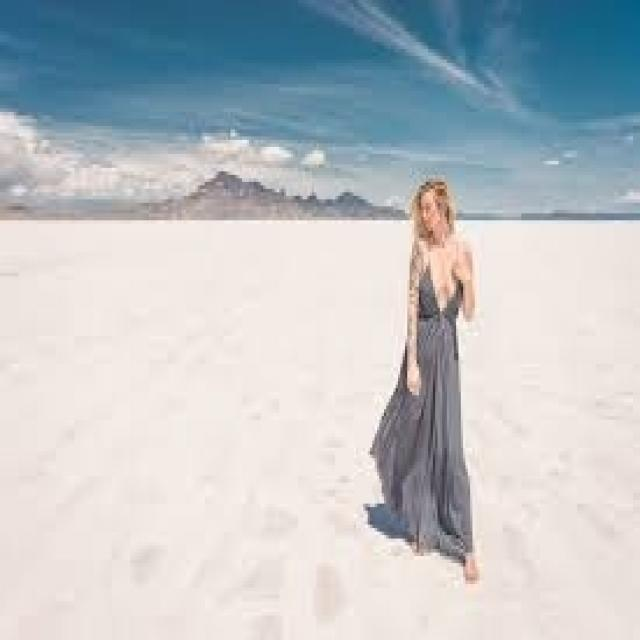walking: (366, 173, 490, 596)
